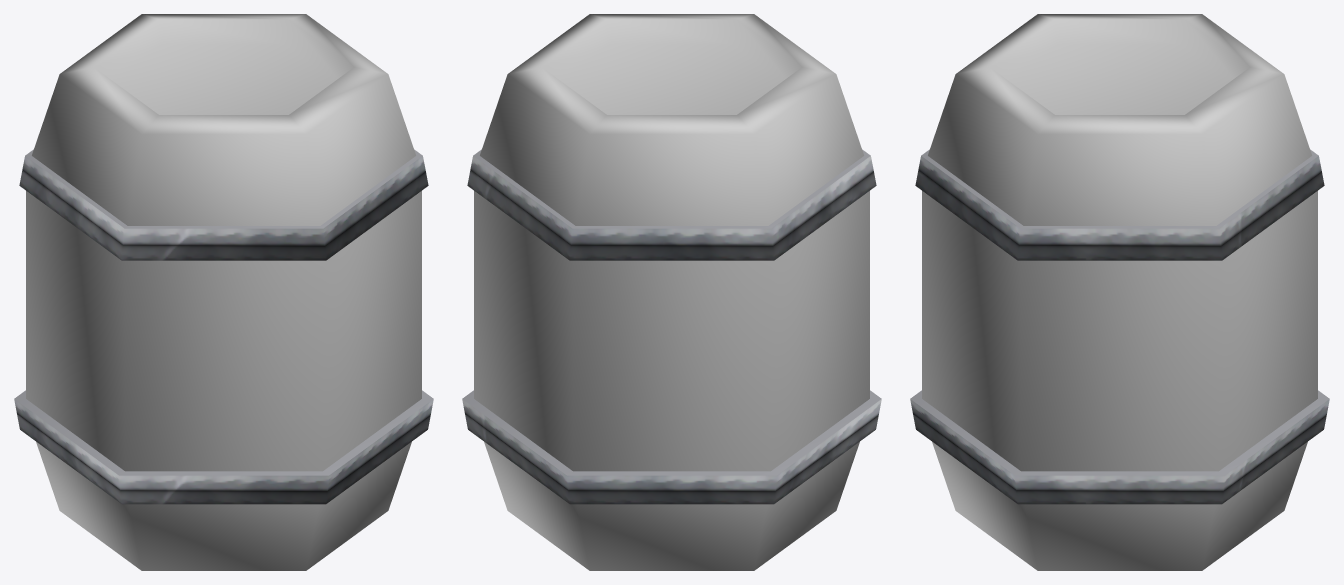
Rendered from Barrel_1.fbx.
3 views of the same model, side by side, from view 1: azimuth 30°, elevation 25°; view 2: azimuth 150°, elevation 25°; view 3: azimuth 270°, elevation 25° (orthographic).
Visible parts, largest first — view 1: Mesh; view 2: Mesh; view 3: Mesh.
Part boxes in pixels (left/top/right/bottom): Mesh: left=14, top=14, right=433, bottom=570; Mesh: left=462, top=14, right=881, bottom=570; Mesh: left=910, top=14, right=1329, bottom=570.
Size of the model in its own units: 74.9 by 102 by 86.49.
